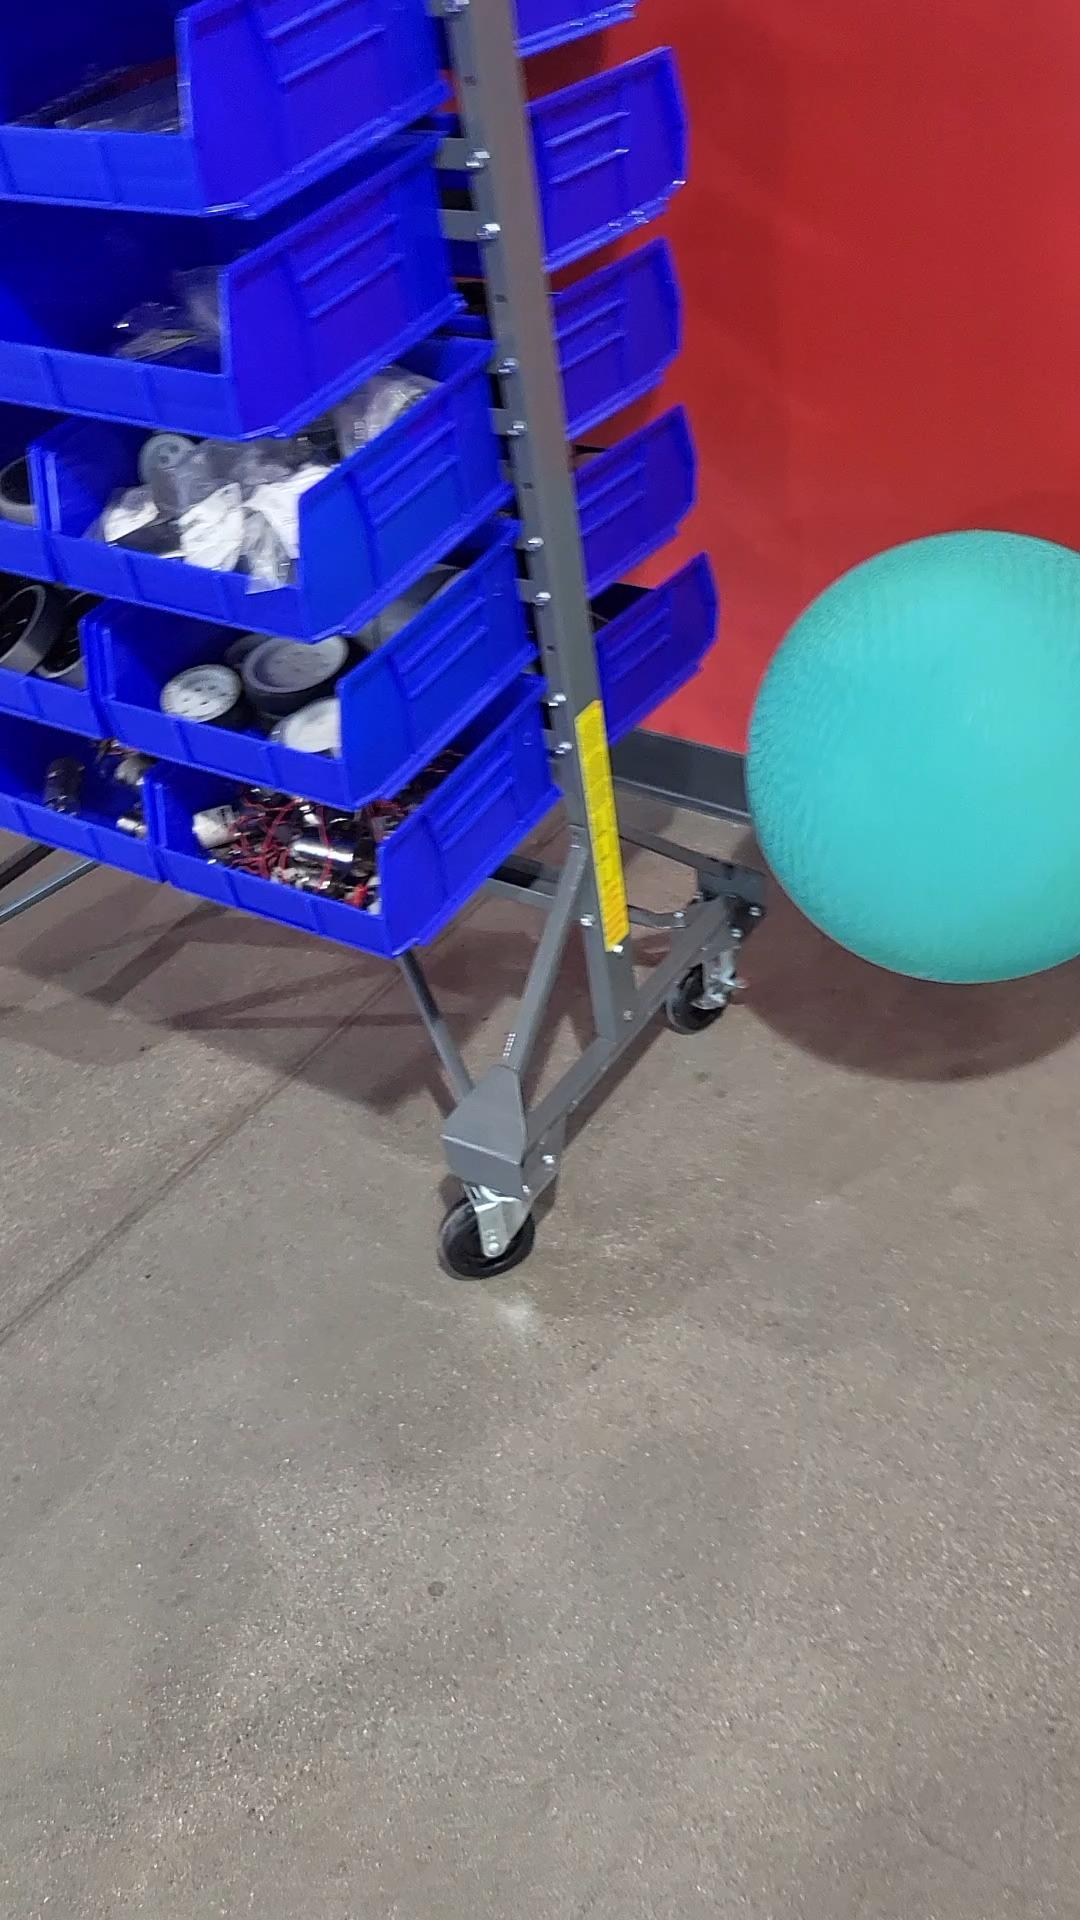algae: (756, 526, 1080, 985)
